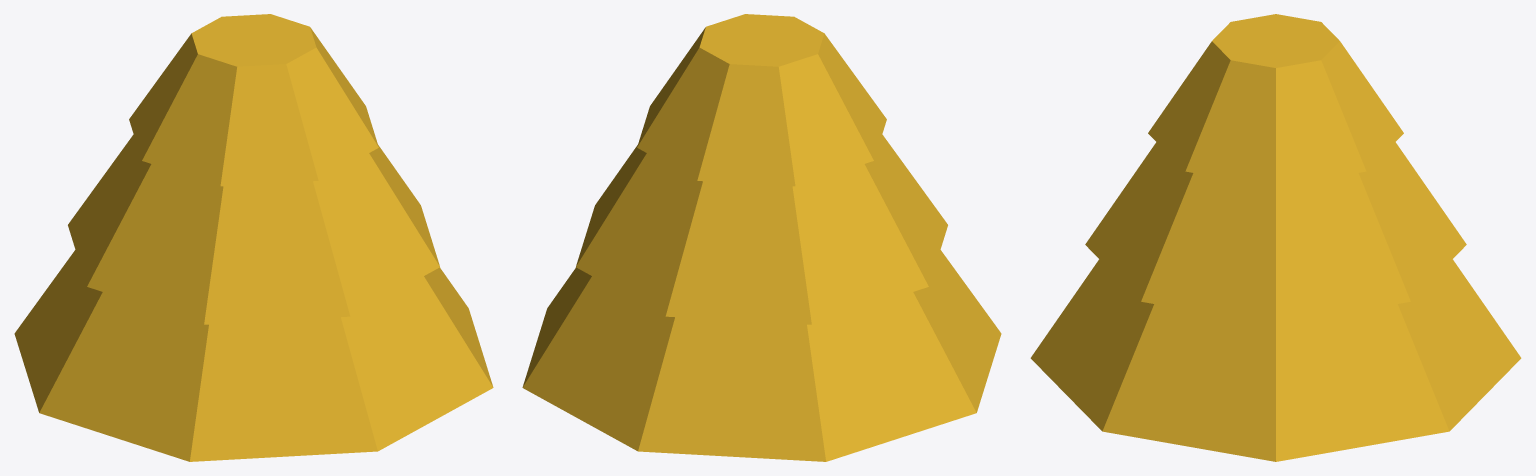
The model's file is hay2.fbx.
3 views of the same model, side by side, from view 1: azimuth 30°, elevation 25°; view 2: azimuth 150°, elevation 25°; view 3: azimuth 270°, elevation 25° (orthographic).
Parts seen in each view (by area): view 1: Cone.002; view 2: Cone.002; view 3: Cone.002.
Part boxes in pixels (x1,y1,x2,y2): Cone.002: [14, 14, 493, 461]; Cone.002: [522, 14, 1001, 461]; Cone.002: [1030, 14, 1521, 461].
Size of the model in its own units: 183 by 131 by 183.
